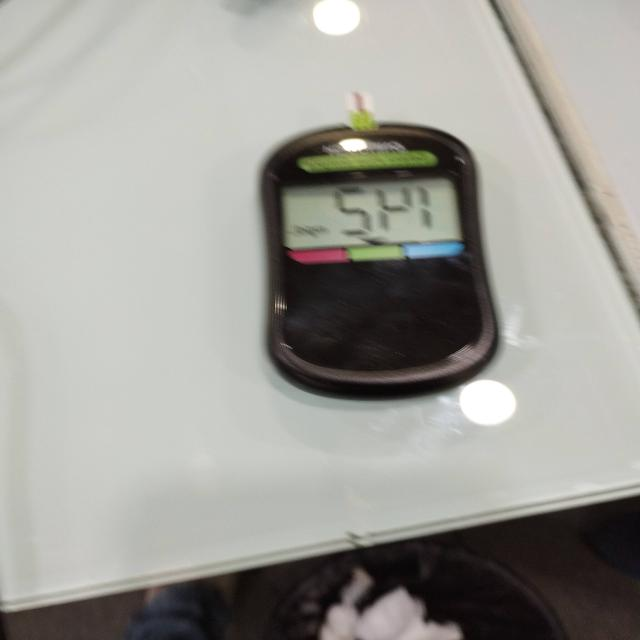gluco: (259, 93, 500, 403)
